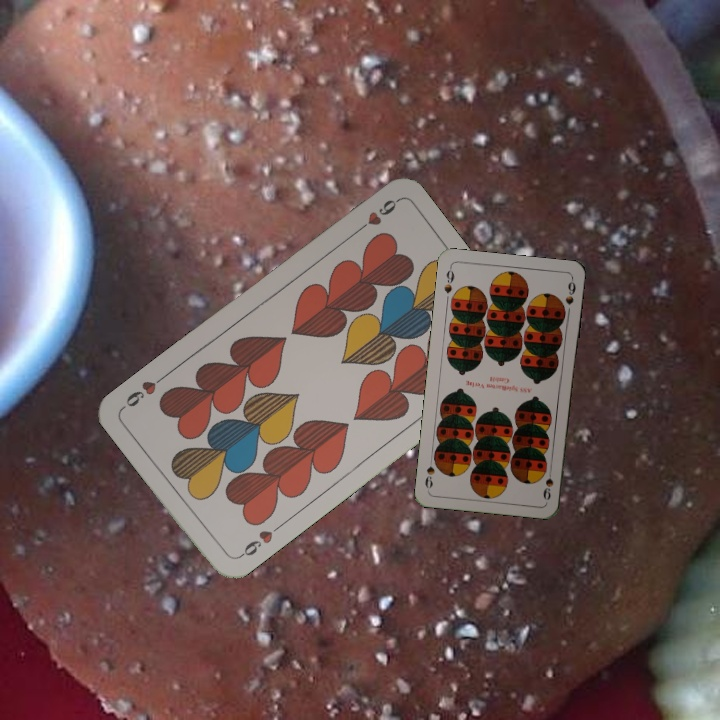H9: (233, 520, 284, 562), (350, 195, 401, 237)
S9: (440, 263, 457, 296), (539, 472, 556, 502)
